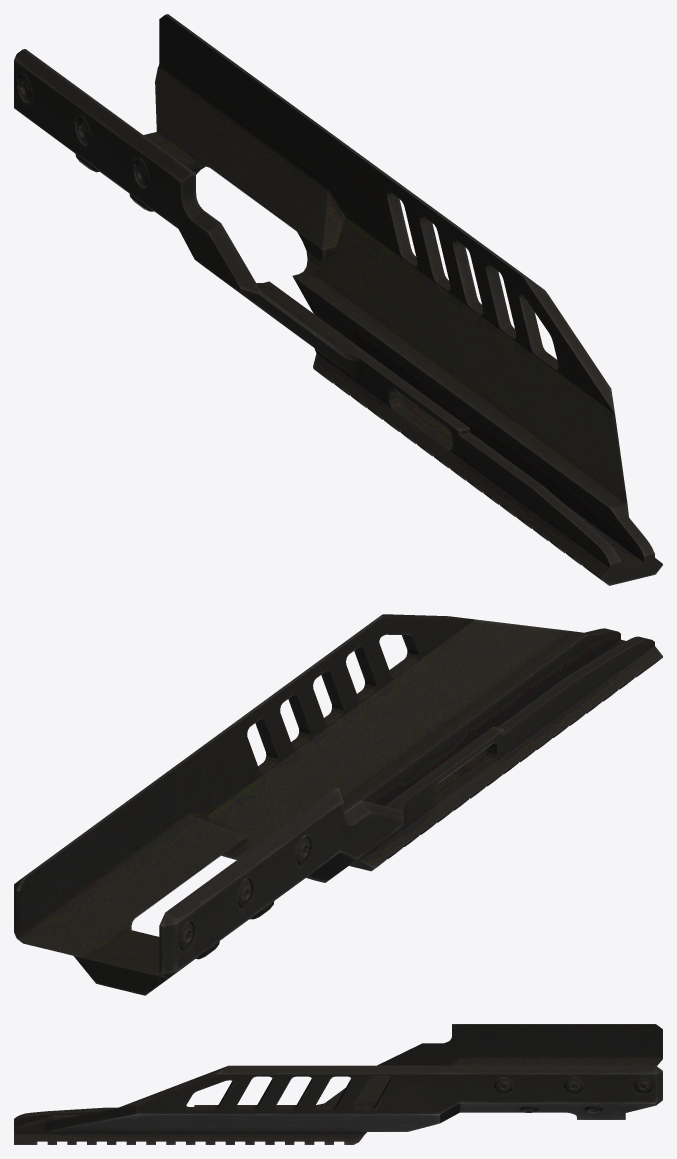
The picture shows the model from 3 angles, top to bottom: view 1: azimuth 30°, elevation 25°; view 2: azimuth 150°, elevation 25°; view 3: azimuth 270°, elevation 25°; orthographic projection. The views are drawn at different scales.
Parts seen in each view (by area): view 1: TW_5e569a0156edd02abe09f27d_PZ_Import; view 2: TW_5e569a0156edd02abe09f27d_PZ_Import; view 3: TW_5e569a0156edd02abe09f27d_PZ_Import.
Boxes of the visible parts, <box> form: TW_5e569a0156edd02abe09f27d_PZ_Import: <box>14,14,662,585</box>; TW_5e569a0156edd02abe09f27d_PZ_Import: <box>14,614,662,995</box>; TW_5e569a0156edd02abe09f27d_PZ_Import: <box>14,1024,662,1144</box>.
Bounding box in the file's own units: 0.0333 × 0.1896 × 0.0299.
1 material, 1 textured.
